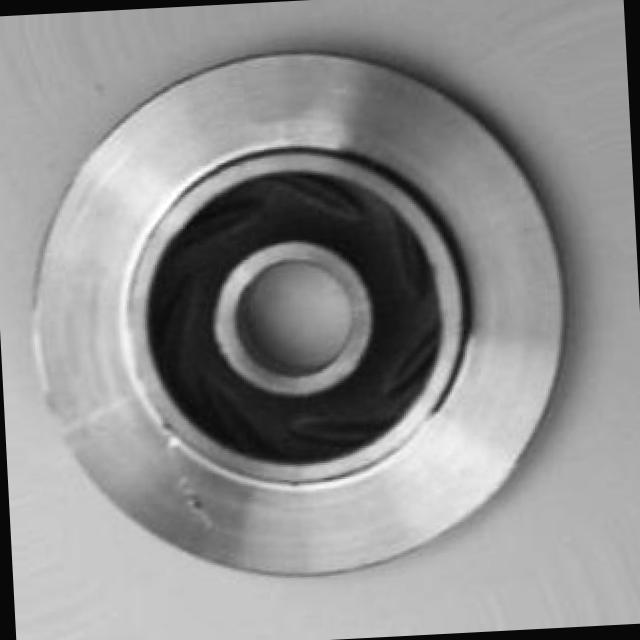Defect: (180, 480, 219, 530)
